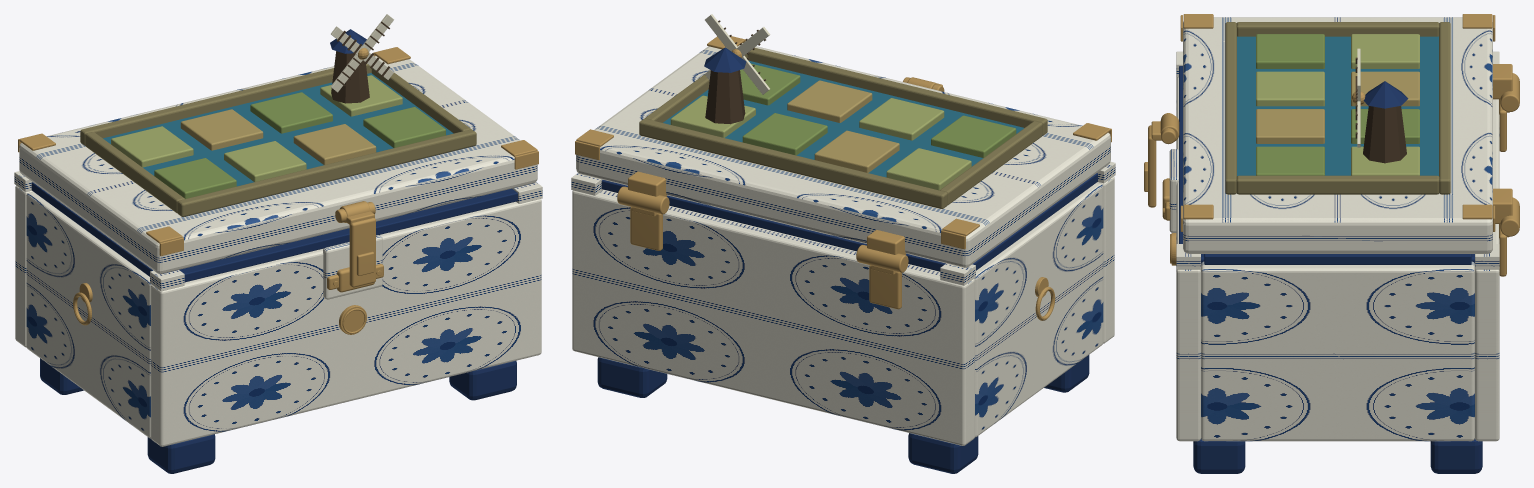
Rendered from netherlands.glb.
The picture shows the model from 3 angles, left to right: view 1: azimuth 30°, elevation 25°; view 2: azimuth 150°, elevation 25°; view 3: azimuth 270°, elevation 25°; orthographic projection. The views are drawn at different scales.
Visible parts, largest first — view 1: Ceramic / long wall, Lid / polished slab, Ceramic / end wall, Polder / water bed, Polder / dyke long, Cobalt seam / long, Polder / dyke long.001, Polder / field 1 1, Polder / field 2 1, Polder / field 2 0, Polder / field 1 0, Polder / field 3 0 (+15 smaller); view 2: Ceramic / long wall.001, Lid / polished slab, Ceramic / end wall, Polder / dyke long.001, Polder / water bed, Polder / dyke long, Cobalt seam / long.001, Polder / field 2 0, Polder / field 1 0, Polder / field 1 1, Polder / field 2 1, Polder / field 0 0 (+19 smaller); view 3: Ceramic / end wall.001, Lid / polished slab, Polder / water bed, Ceramic / long wall.001, Ceramic / long wall, Polder / dyke end.001, Cobalt seam / side.001, Polder / dyke end, Polder / field 1 0, Polder / field 0 0, Polder / field 2 0, Polder / field 0 1 (+23 smaller).
Boxes of the visible parts, x1,y1,x2,y2 form: Ceramic / long wall: [151, 199, 541, 446]; Lid / polished slab: [19, 56, 537, 273]; Ceramic / end wall: [26, 191, 151, 438]; Polder / water bed: [103, 73, 453, 186]; Polder / dyke long: [177, 129, 476, 216]; Cobalt seam / long: [179, 188, 517, 282]; Polder / dyke long.001: [80, 64, 371, 145]; Polder / field 1 1: [180, 109, 263, 150]; Polder / field 2 1: [250, 92, 332, 133]; Polder / field 2 0: [293, 124, 376, 164]; Polder / field 1 0: [224, 141, 306, 181]; Polder / field 3 0: [363, 107, 445, 147]; Ceramic / long wall.001: [572, 189, 974, 445]; Lid / polished slab: [576, 43, 1110, 267]; Ceramic / end wall: [974, 183, 1103, 437]; Polder / dyke long.001: [639, 118, 947, 208]; Polder / water bed: [663, 60, 1023, 177]; Polder / dyke long: [747, 47, 1047, 135]; Cobalt seam / long.001: [601, 180, 945, 271]; Polder / field 2 0: [787, 80, 872, 122]; Polder / field 1 0: [859, 98, 944, 140]; Polder / field 1 1: [814, 130, 899, 172]; Polder / field 2 1: [742, 113, 827, 155]; Polder / field 0 0: [931, 115, 1016, 157]; Ceramic / end wall.001: [1201, 261, 1474, 441]; Lid / polished slab: [1183, 17, 1492, 253]; Polder / water bed: [1237, 36, 1438, 175]; Ceramic / long wall.001: [1475, 99, 1499, 441]; Ceramic / long wall: [1176, 77, 1200, 441]; Polder / dyke end.001: [1236, 175, 1439, 194]; Cobalt seam / side.001: [1204, 254, 1471, 264]; Polder / dyke end: [1236, 22, 1439, 36]; Polder / field 1 0: [1256, 71, 1324, 106]; Polder / field 0 0: [1256, 34, 1324, 68]; Polder / field 2 0: [1256, 109, 1324, 143]; Polder / field 0 1: [1351, 34, 1419, 68].
Size of the model in its own units: 3.79 by 3.13 by 2.88.
Materials: 10 (1 with a texture image).
